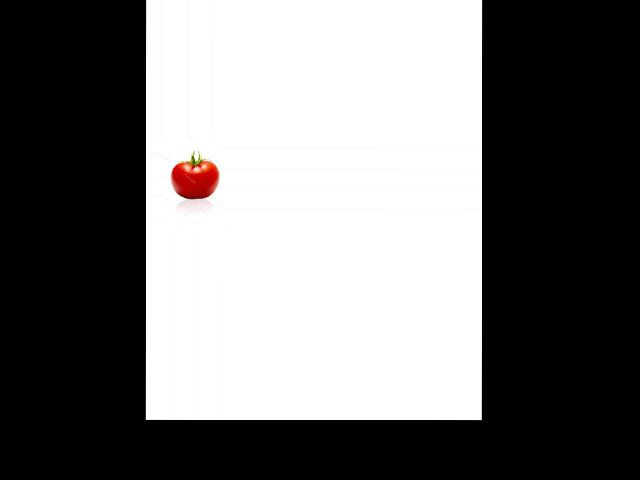tomato: (170, 160, 219, 198)
